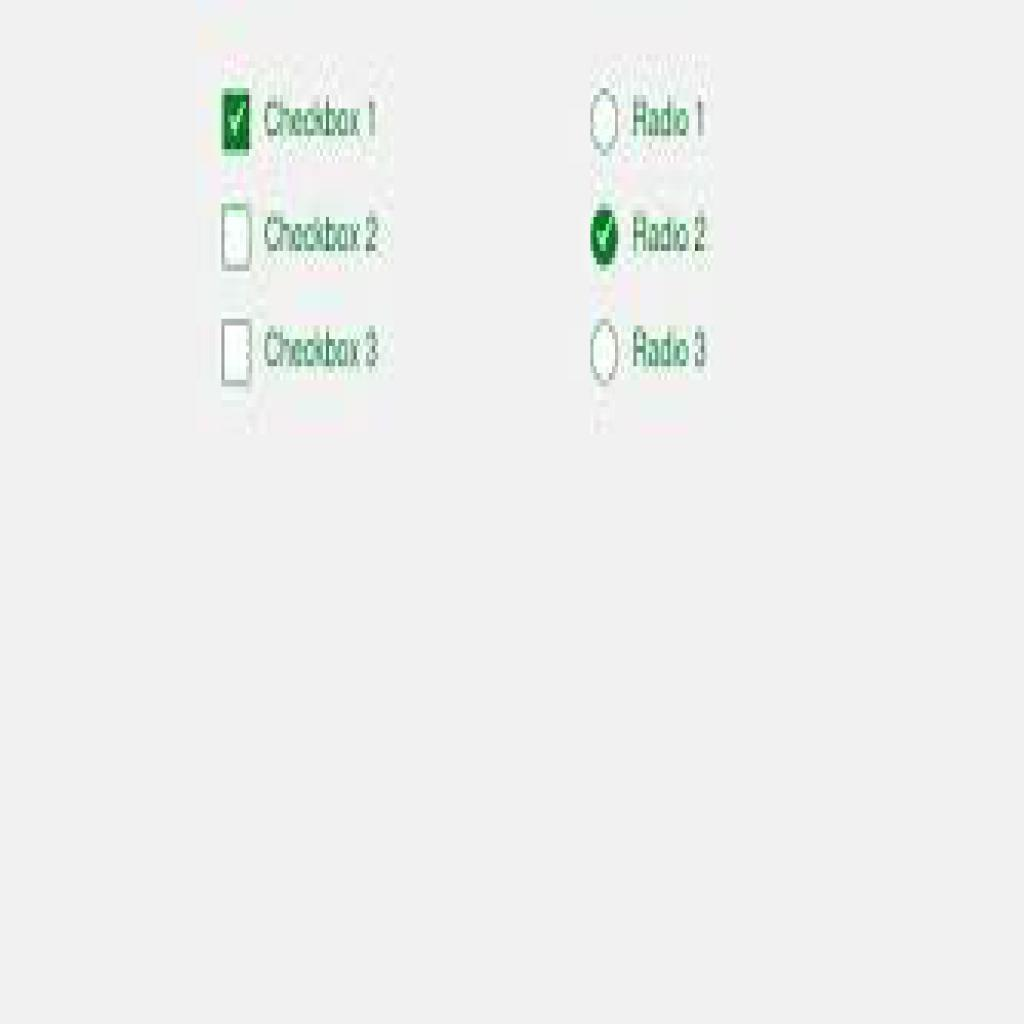checkbox: (217, 195, 257, 274), (222, 82, 254, 166), (220, 316, 254, 393)
radio: (585, 198, 624, 275), (588, 311, 626, 389), (586, 87, 621, 159)
